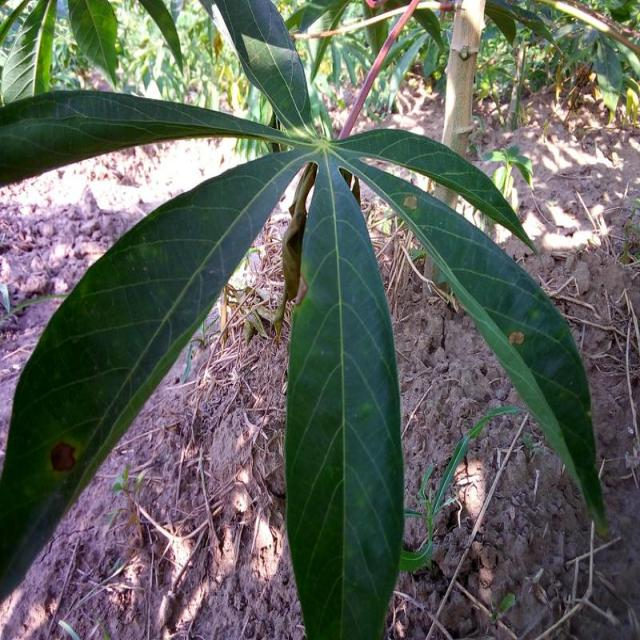cassava leaf: (0, 0, 608, 637), (0, 144, 314, 604), (334, 145, 610, 539), (283, 146, 405, 638)
